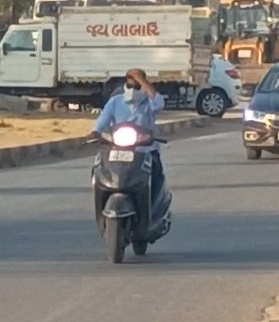BikeWithRider: (78, 63, 178, 266)
NoHelmet: (115, 65, 150, 102)
